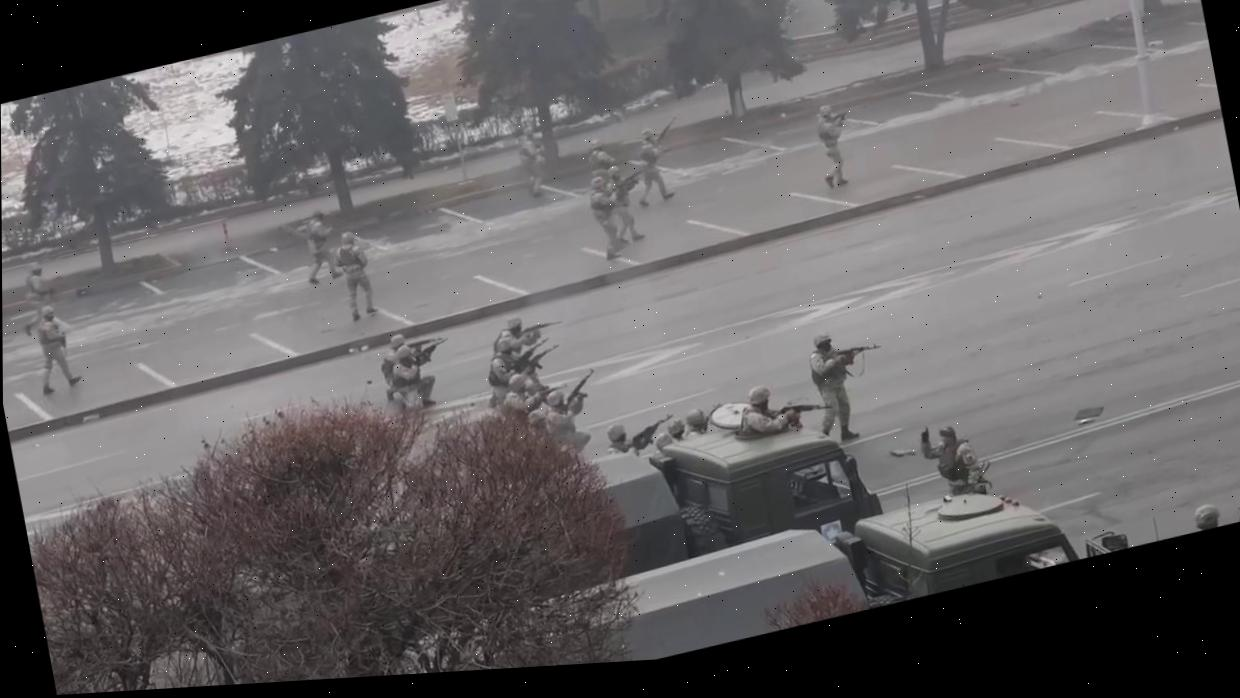person: (803, 320, 897, 446), (917, 411, 997, 503), (740, 370, 837, 439), (541, 368, 609, 458), (625, 115, 690, 209), (389, 335, 462, 417), (378, 323, 451, 402), (29, 301, 83, 396), (487, 328, 558, 399), (499, 363, 573, 431), (488, 305, 566, 366), (810, 100, 862, 191), (330, 228, 379, 324), (603, 159, 655, 247), (602, 409, 679, 460), (296, 207, 345, 287), (586, 172, 629, 263), (14, 262, 64, 338), (514, 124, 552, 201), (584, 135, 620, 187)
truck: (258, 357, 890, 680), (409, 452, 1101, 674)
